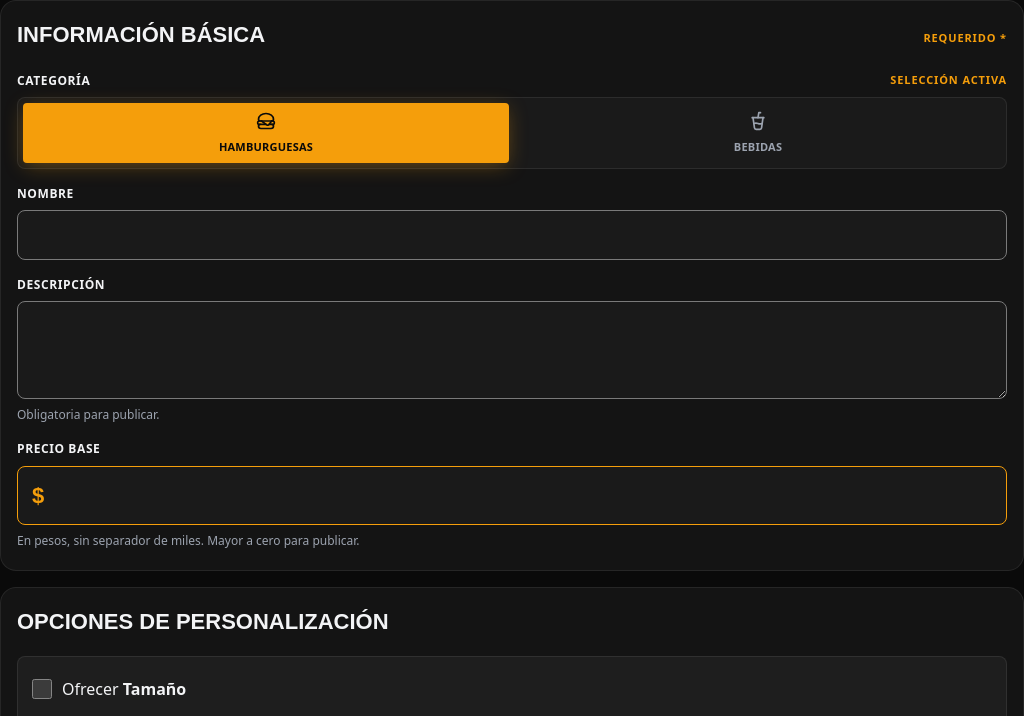
Test: ProductForm › lists only the option groups of the chosen category's type
Expected: the checkbox labelled "Ofrecer Tamaño" is shown, [32,679,52,699]
Click the radio button labelled "Bebidas". click: coordinates (758, 132)
box: [734,111,782,154]
(page scrolled)
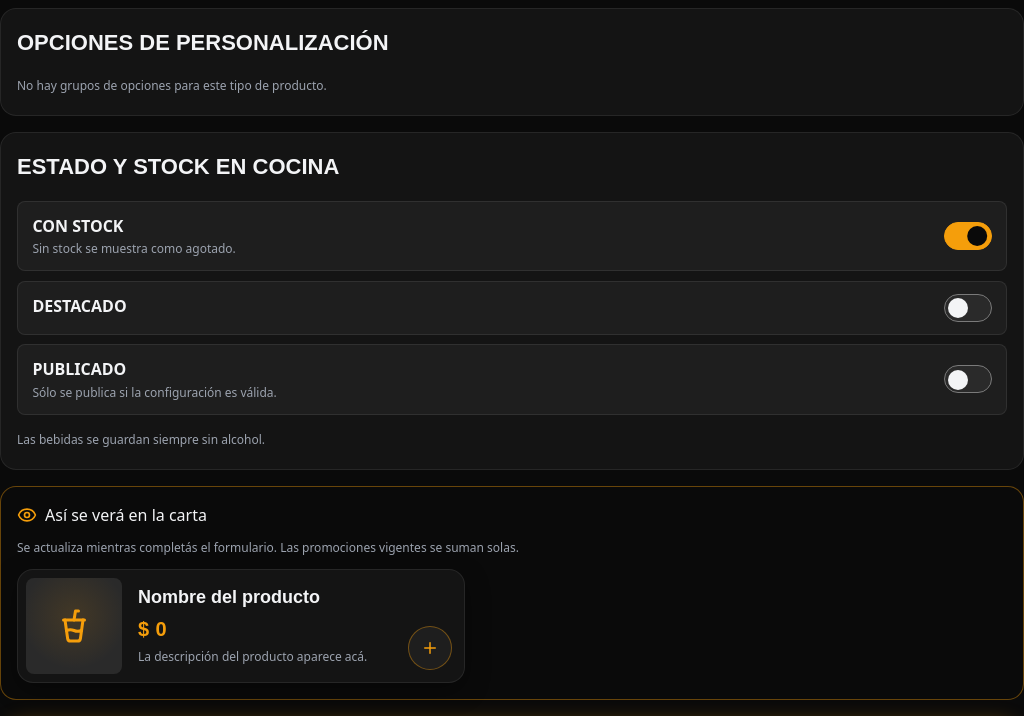
Expected: the label "Ofrecer Tamaño" is gone
Expected: the text "No hay grupos de opciones para este tipo de producto." is shown, [17,77,327,94]
Expected: the text "Las bebidas se guardan siempre sin alcohol." is shown, [17,431,265,448]
